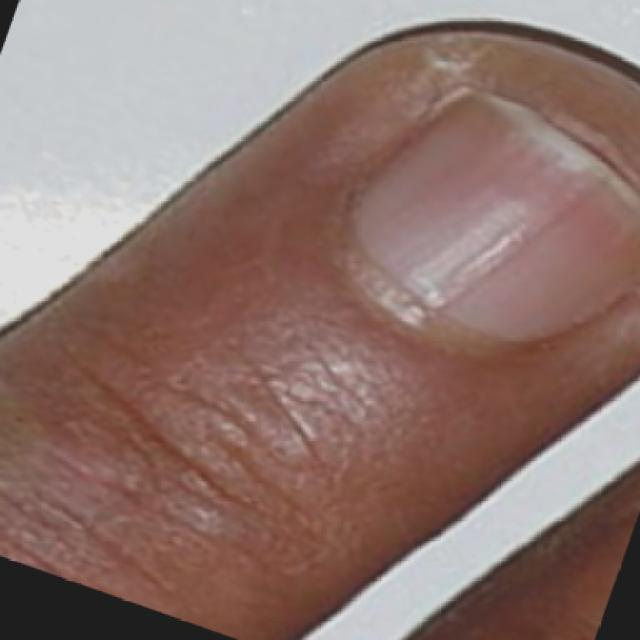Nail: (354, 94, 639, 339)
